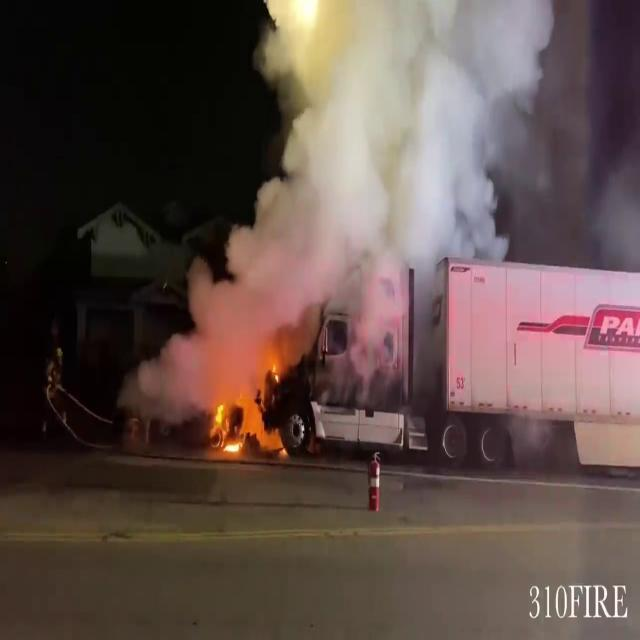Fire: (204, 350, 288, 460)
Smoke: (254, 0, 640, 284), (152, 190, 321, 410)
